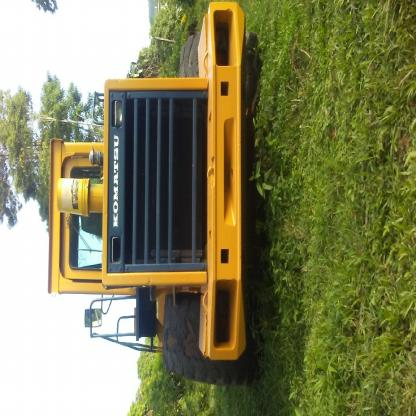bull_dozer/loader/grader: (40, 0, 268, 390)
